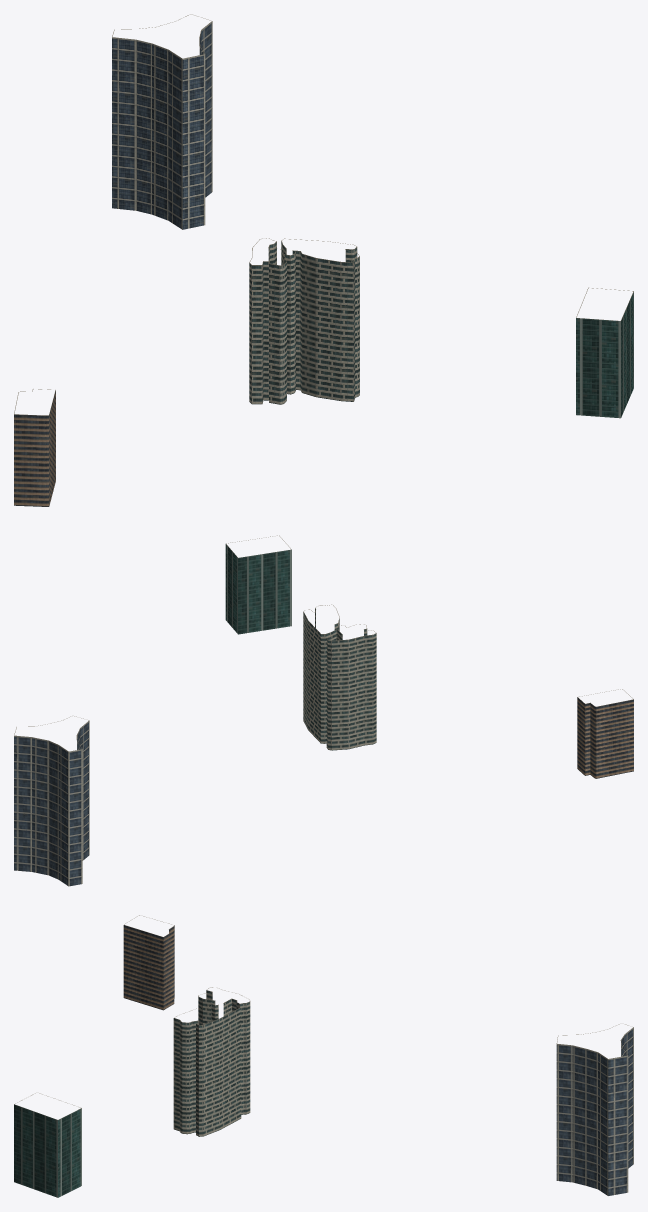
The picture shows the model from 3 angles, top to bottom: view 1: azimuth 30°, elevation 25°; view 2: azimuth 150°, elevation 25°; view 3: azimuth 270°, elevation 25°; orthographic projection. The views are drawn at different scales.
Parts seen in each view (by area): view 1: DoubleHeightFrames, StaggeredGalleries, EnamelFins, SandstoneRibbons; view 2: DoubleHeightFrames, StaggeredGalleries, EnamelFins, SandstoneRibbons; view 3: DoubleHeightFrames, StaggeredGalleries, EnamelFins, SandstoneRibbons.
Boxes of the visible parts, x1,y1,x2,y2 form: DoubleHeightFrames: (112,21,212,229); StaggeredGalleries: (249,241,359,404); EnamelFins: (576,292,633,418); SandstoneRibbons: (14,390,55,506); DoubleHeightFrames: (14,721,89,886); StaggeredGalleries: (303,608,376,750); EnamelFins: (225,544,291,634); SandstoneRibbons: (577,697,633,778); DoubleHeightFrames: (556,1027,633,1195); StaggeredGalleries: (173,990,250,1136); EnamelFins: (14,1104,81,1197); SandstoneRibbons: (123,925,174,1010).
Size of the model in its own units: 411 by 118 by 484.
5 materials, 5 textured.
